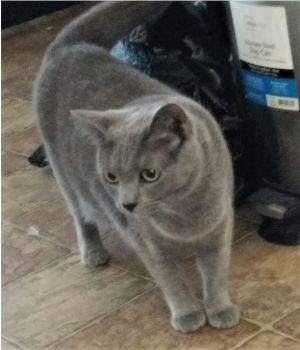rblue: (78, 94, 204, 241)
